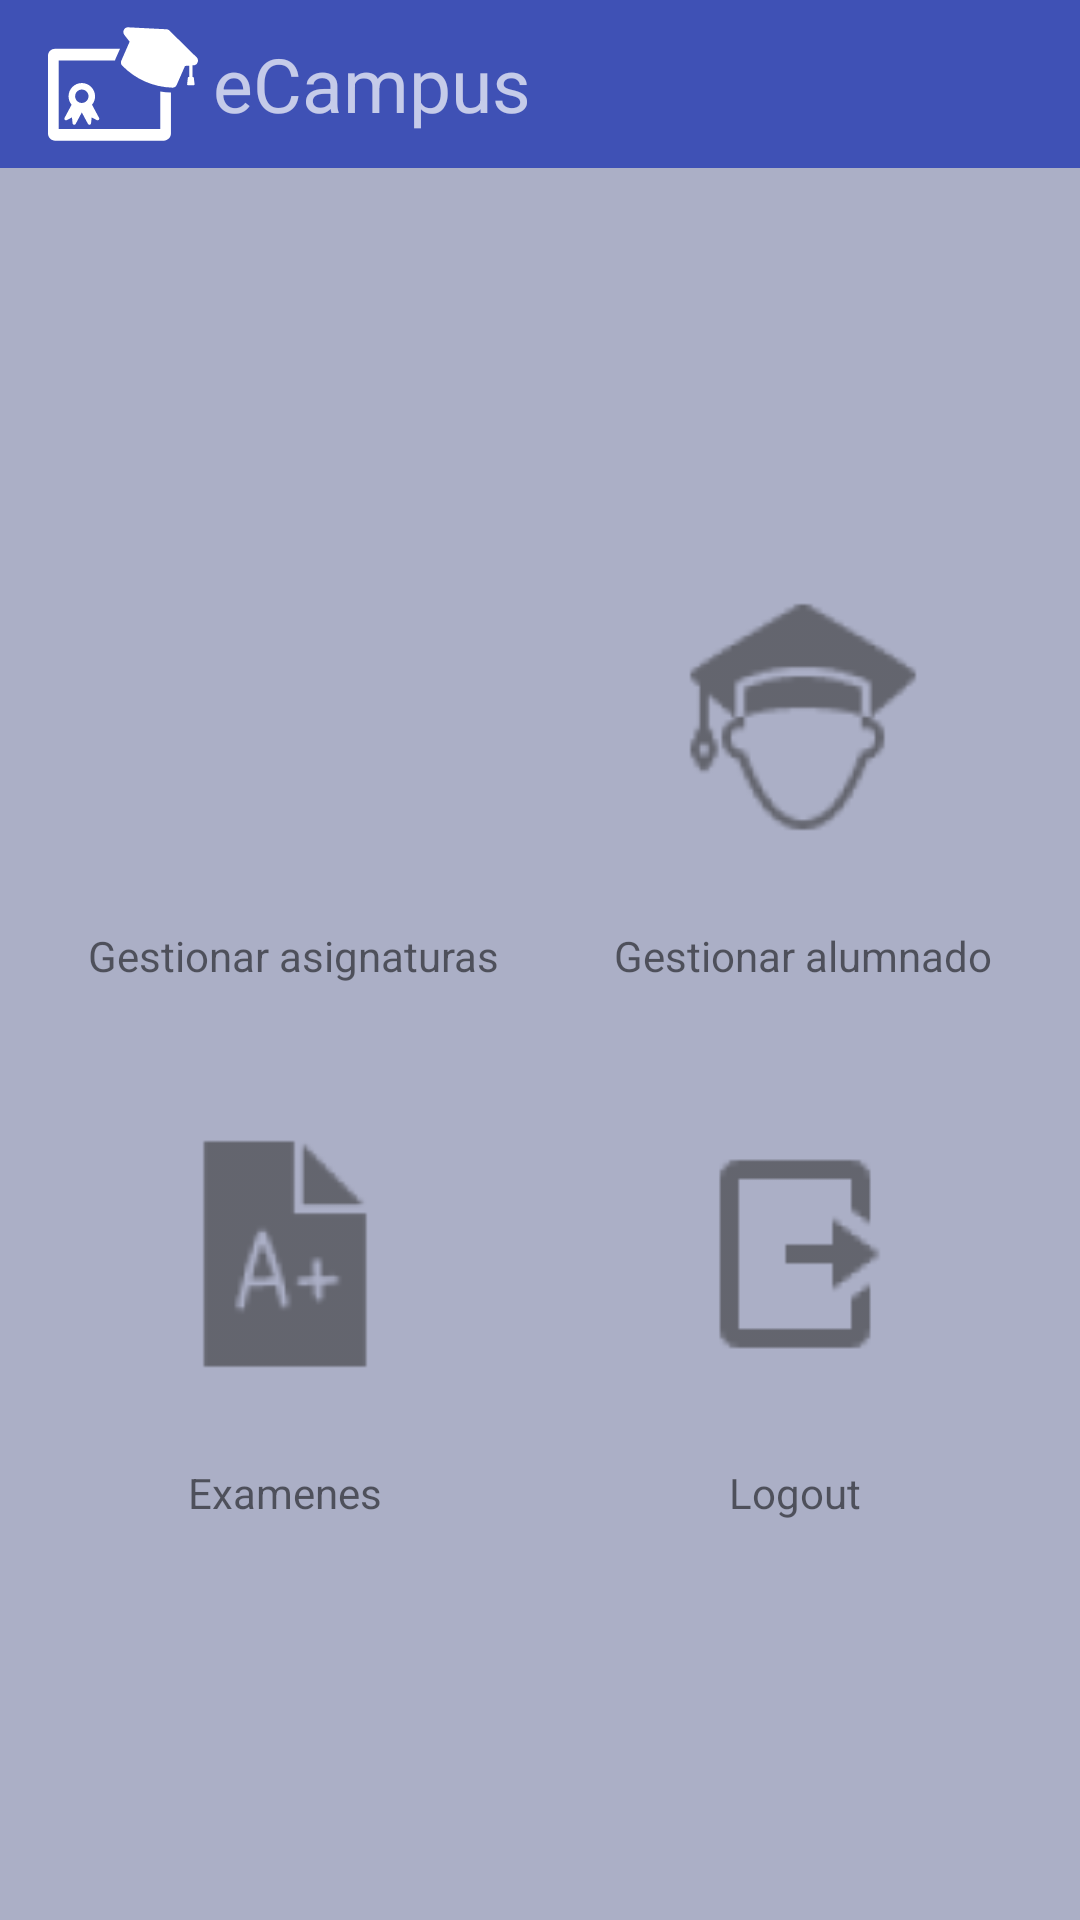

Icons on this 1080 x 1920 Android screen, each with the point to tap as (x=x, y=y):
exit: (x=799, y=1254)
student: (x=803, y=717)
